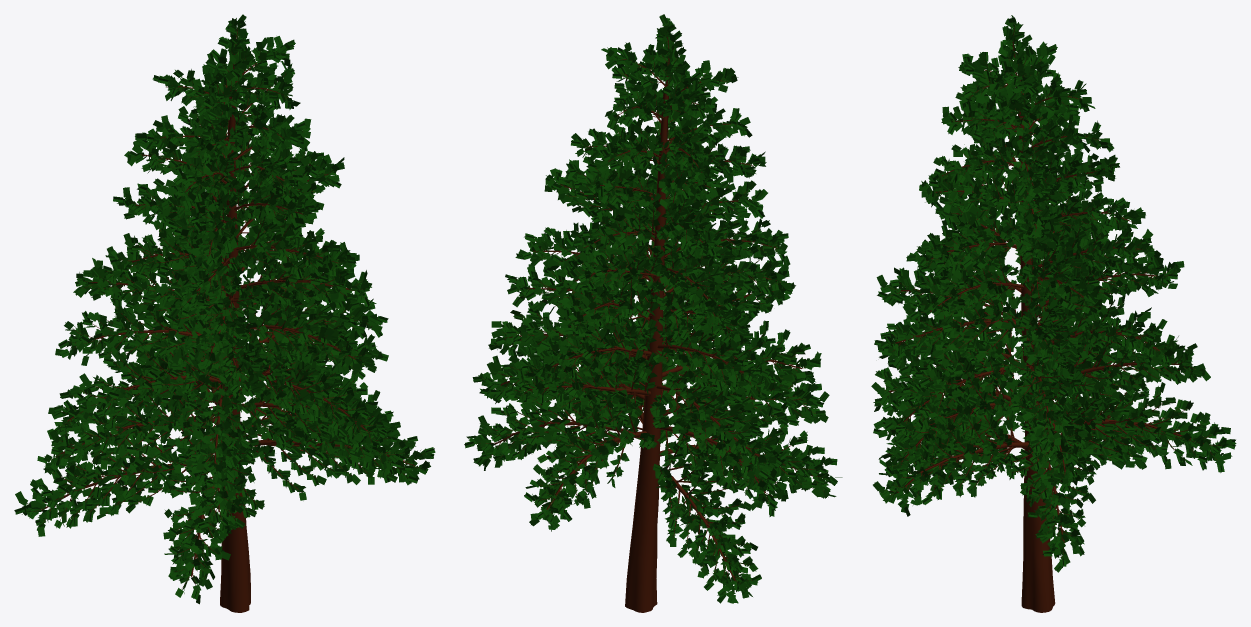
Rendered from Oak 001 UV.fbx.
3 views of the same model, side by side, from view 1: azimuth 30°, elevation 25°; view 2: azimuth 150°, elevation 25°; view 3: azimuth 270°, elevation 25° (orthographic). The views are drawn at different scales.
Parts seen in each view (by area): view 1: Foliage001; view 2: Foliage001; view 3: Foliage001.
Part boxes in pixels (x1,y1,x2,y2): Foliage001: [14, 14, 435, 612]; Foliage001: [464, 14, 842, 612]; Foliage001: [871, 15, 1236, 612].
Bounding box in the file's own units: 10.53 × 17.59 × 9.95.
